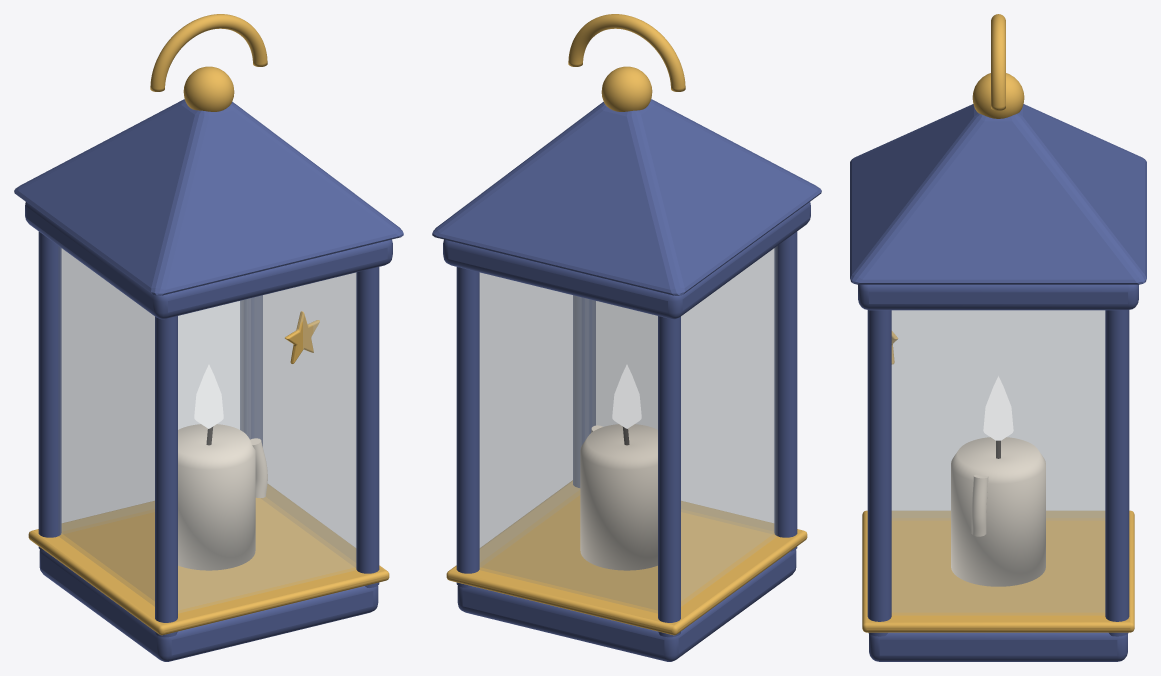
File: decor_lantern.glb
3 views of the same model, side by side, from view 1: azimuth 30°, elevation 25°; view 2: azimuth 150°, elevation 25°; view 3: azimuth 270°, elevation 25° (orthographic). The views are drawn at different scales.
Visible parts, largest first — view 1: Ln4_GlassY-1.001, Ln4_Roof.001, Ln4_GlassY1.001, Ln4_GlassX-1.001, Ln4_GlassX1.001, Ln4_BaseTrim.001, Ln4_Candle.001, Ln4_Base.001, Ln4_Top.001, Ln4_Post1-1.001, Ln4_Post-11.001, Ln4_Post-1-1.001 (+6 smaller); view 2: Ln4_GlassY1.001, Ln4_Roof.001, Ln4_GlassY-1.001, Ln4_GlassX-1.001, Ln4_GlassX1.001, Ln4_BaseTrim.001, Ln4_Candle.001, Ln4_Base.001, Ln4_Top.001, Ln4_Post11.001, Ln4_Post-1-1.001, Ln4_Post-11.001 (+4 smaller); view 3: Ln4_GlassX1.001, Ln4_Roof.001, Ln4_GlassX-1.001, Ln4_BaseTrim.001, Ln4_Candle.001, Ln4_Post1-1.001, Ln4_Post11.001, Ln4_Base.001, Ln4_Top.001, Ln4_Handle.001, Ln4_Knob.001, Ln4_Flame.001 (+1 smaller).
Part boxes in pixels (bbox=[...]): Ln4_GlassY-1.001: bbox=[178, 273, 356, 612]; Ln4_Roof.001: bbox=[14, 99, 403, 295]; Ln4_GlassY1.001: bbox=[61, 248, 243, 533]; Ln4_GlassX-1.001: bbox=[59, 247, 154, 605]; Ln4_GlassX1.001: bbox=[254, 273, 355, 567]; Ln4_BaseTrim.001: bbox=[28, 484, 389, 635]; Ln4_Candle.001: bbox=[178, 424, 255, 570]; Ln4_Base.001: bbox=[39, 550, 378, 661]; Ln4_Top.001: bbox=[25, 202, 392, 319]; Ln4_Post1-1.001: bbox=[356, 267, 379, 587]; Ln4_Post-11.001: bbox=[38, 231, 61, 551]; Ln4_Post-1-1.001: bbox=[155, 316, 177, 637]; Ln4_GlassY1.001: bbox=[479, 273, 657, 612]; Ln4_Roof.001: bbox=[432, 99, 821, 295]; Ln4_GlassY-1.001: bbox=[592, 248, 774, 533]; Ln4_GlassX-1.001: bbox=[681, 247, 776, 605]; Ln4_GlassX1.001: bbox=[480, 273, 581, 567]; Ln4_BaseTrim.001: bbox=[446, 480, 807, 635]; Ln4_Candle.001: bbox=[580, 424, 657, 570]; Ln4_Base.001: bbox=[457, 550, 796, 661]; Ln4_Top.001: bbox=[443, 202, 810, 319]; Ln4_Post11.001: bbox=[456, 267, 479, 587]; Ln4_Post-1-1.001: bbox=[774, 231, 797, 551]; Ln4_Post-11.001: bbox=[658, 316, 680, 637]; Ln4_GlassX1.001: bbox=[892, 310, 1104, 614]; Ln4_Roof.001: bbox=[850, 104, 1146, 284]; Ln4_GlassX-1.001: bbox=[892, 310, 1104, 517]; Ln4_BaseTrim.001: bbox=[862, 510, 1134, 632]; Ln4_Candle.001: bbox=[951, 437, 1045, 586]; Ln4_Post1-1.001: bbox=[867, 310, 891, 636]; Ln4_Post11.001: bbox=[1105, 310, 1129, 636]; Ln4_Base.001: bbox=[869, 632, 1127, 661]; Ln4_Top.001: bbox=[858, 284, 1138, 310]; Ln4_Handle.001: bbox=[991, 14, 1005, 110]; Ln4_Knob.001: bbox=[972, 73, 1024, 118]; Ln4_Flame.001: bbox=[983, 376, 1013, 440].
Bounding box in the file's own units: 0.1373 × 0.3015 × 0.1373.
